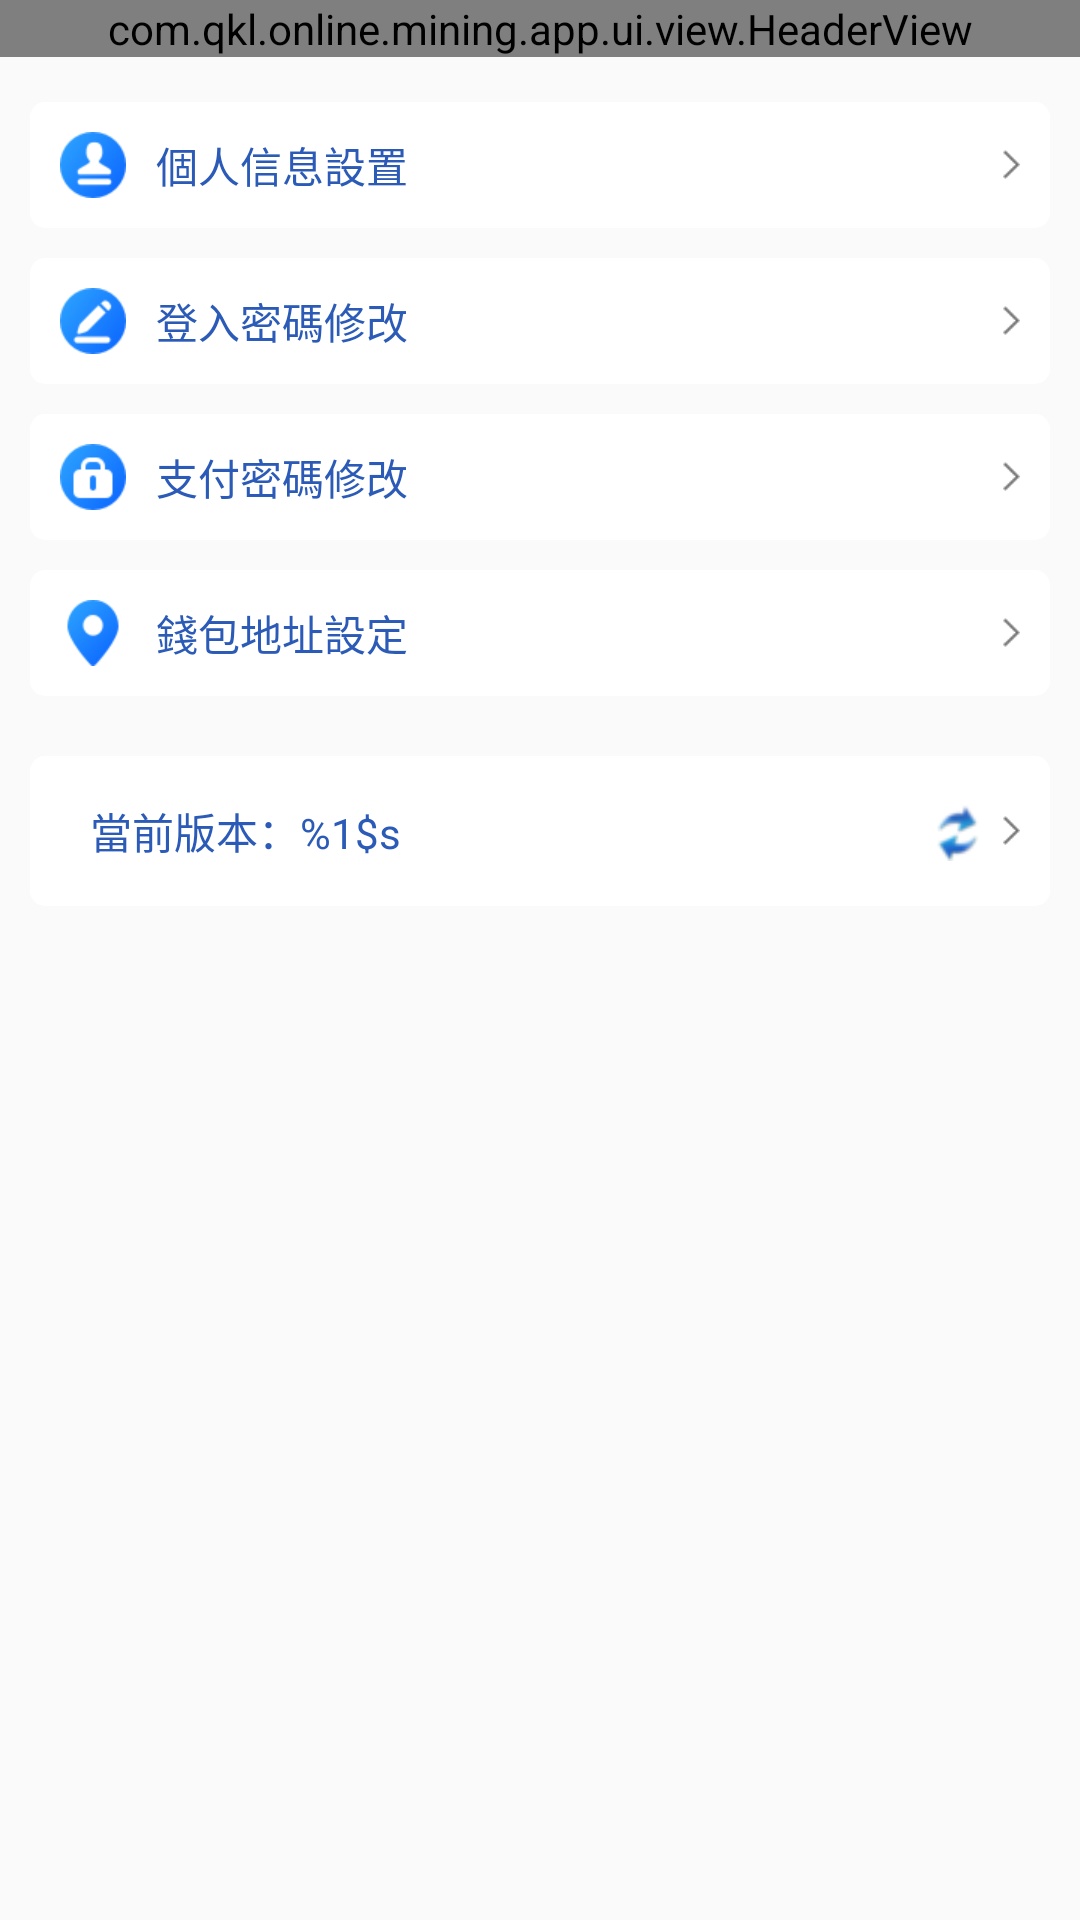

Named icons in this screenshot (1080w x 1920h) and their centers, (x=x, y=y):
set dizhi: (x=93, y=633)
set gerenxinxi: (x=93, y=165)
set xiugai: (x=93, y=321)
set zhifumim: (x=93, y=477)
